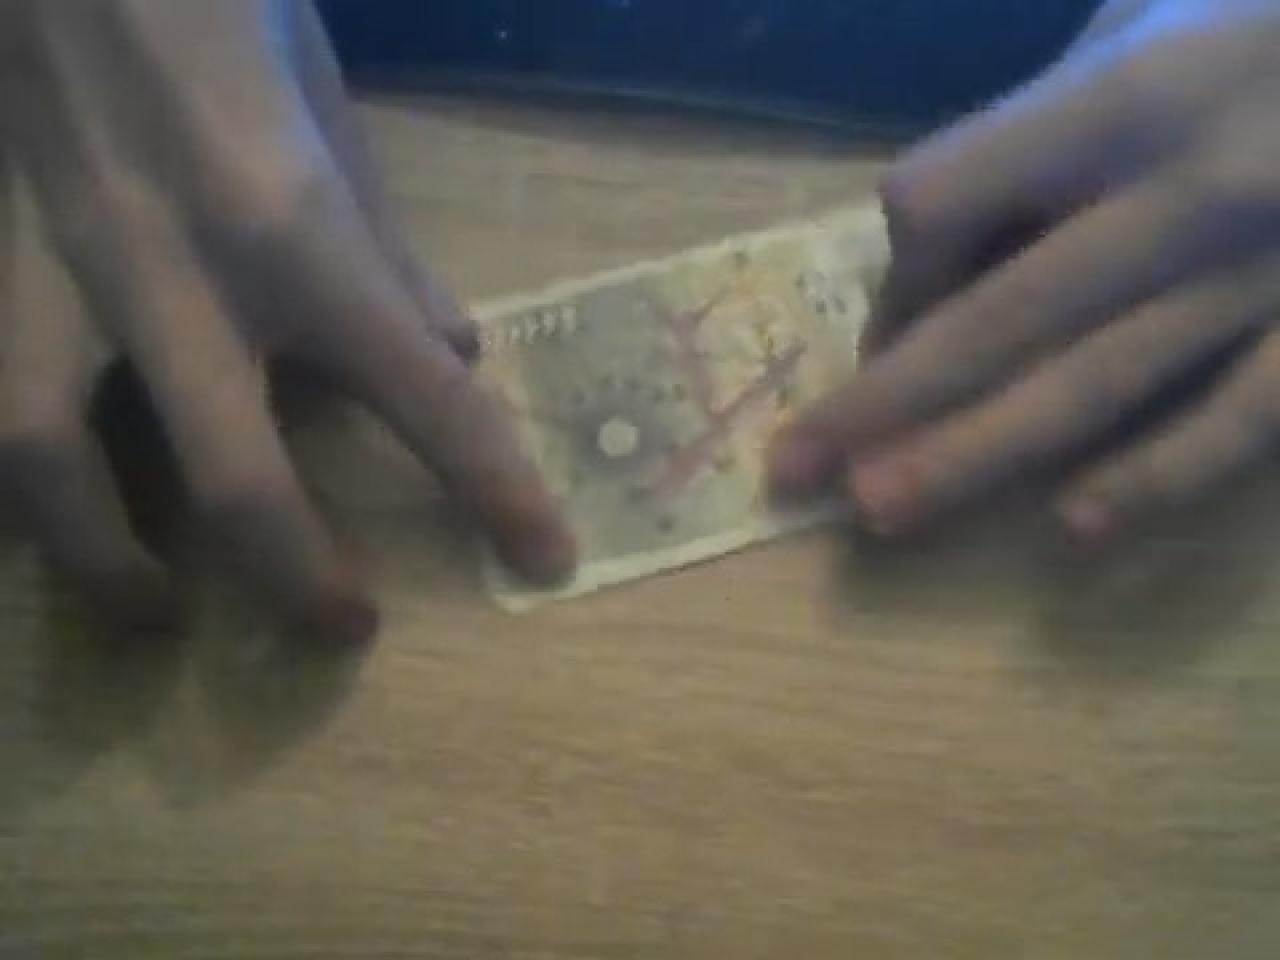10leva: (472, 203, 888, 608)
